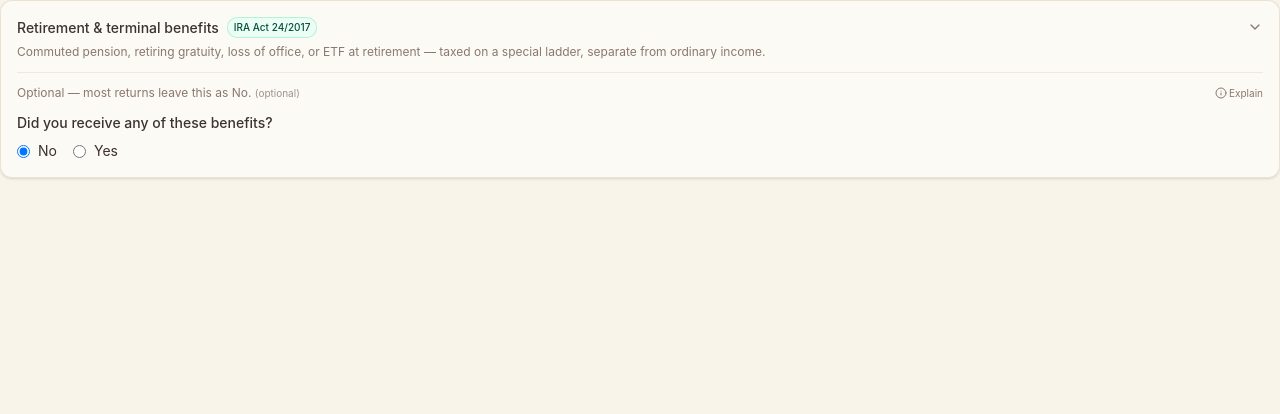
Test case: TerminalBenefitSection › shows the Commissioner-General checkbox only for loss of office
Click the radio button labelled "Yes" at {"x": 80, "y": 151}, box [73, 144, 86, 158]
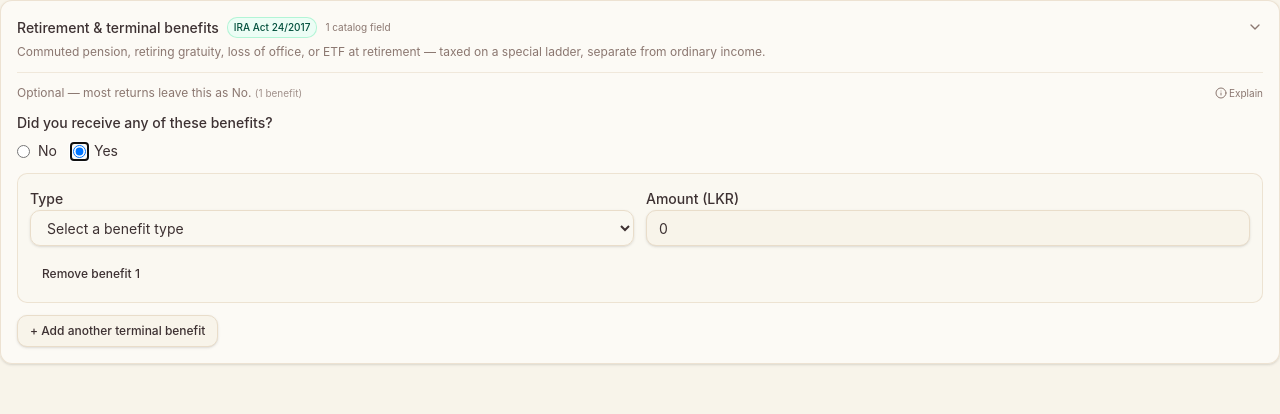
Select "Commuted pension" in the dropdown labelled "Type" at {"x": 332, "y": 228}, box [30, 210, 634, 246]
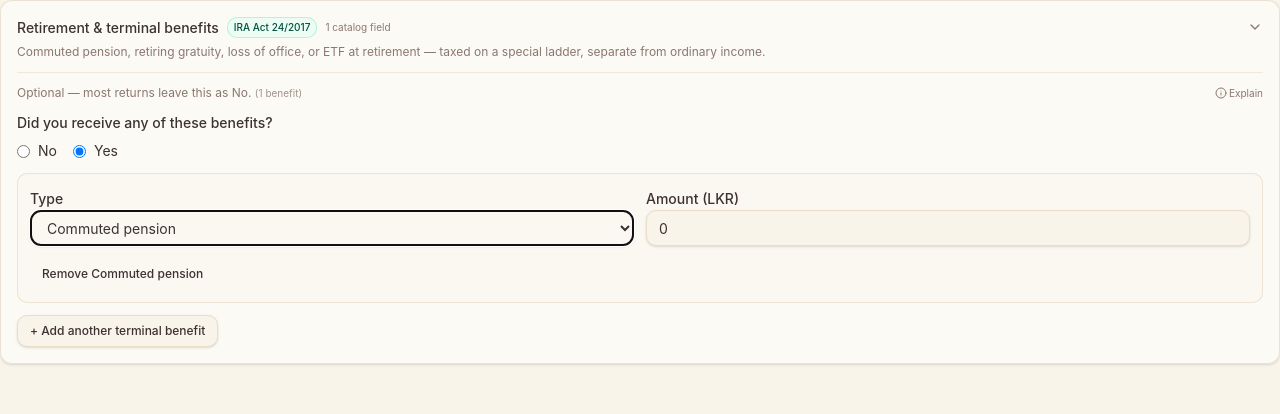
Expected: the text "scheme uniformly applicable to all employees" is not shown
Select "Compensation for loss of office" in the dropdown labelled "Type" at {"x": 332, "y": 228}, box [30, 210, 634, 246]
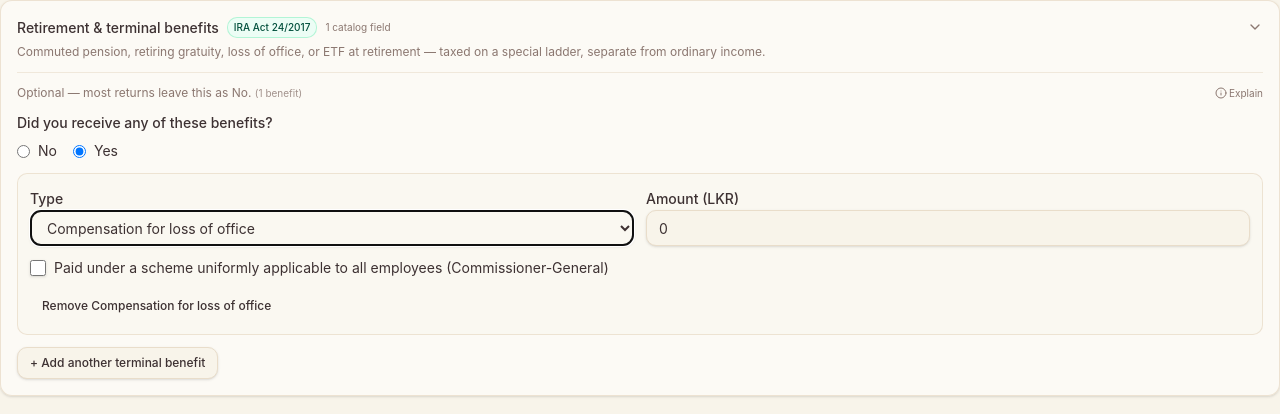
Result: the text "scheme uniformly applicable to all employees" is shown at [54, 259, 609, 276]
